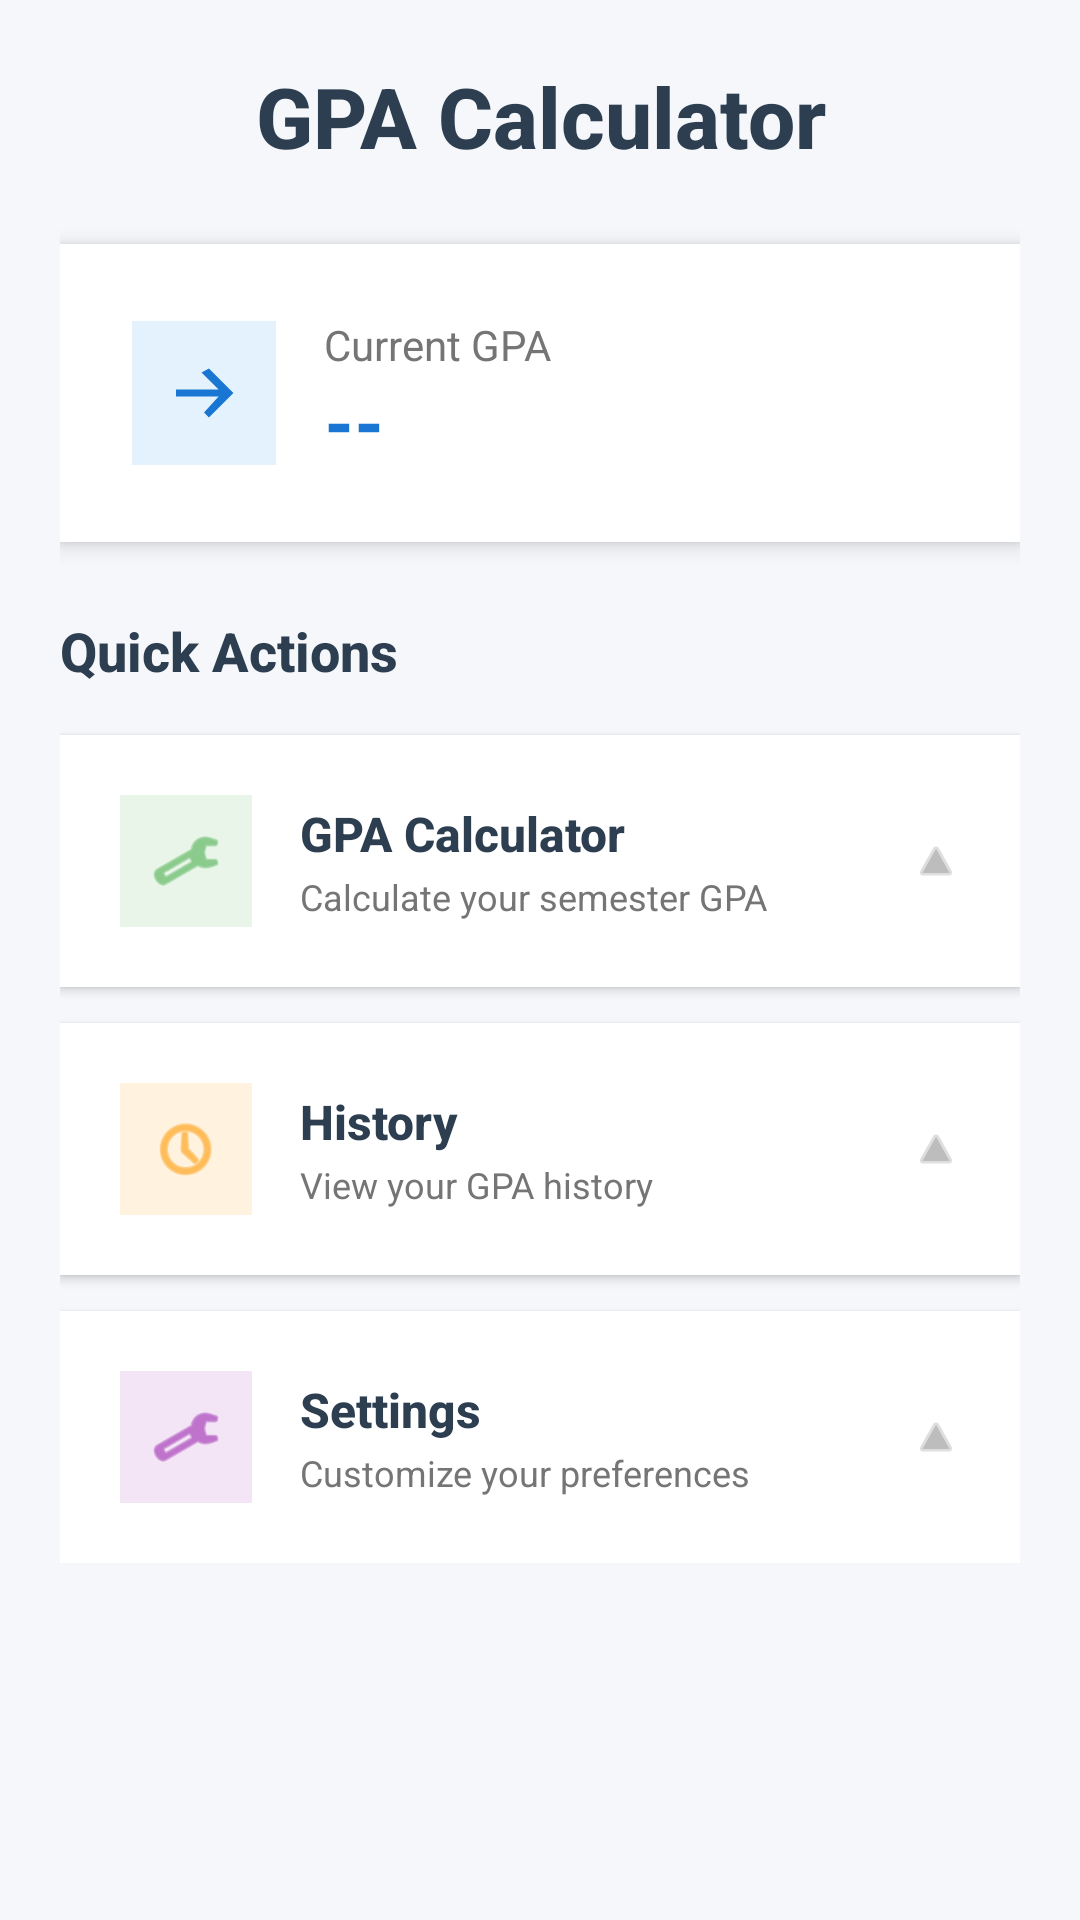

Where to tap for icons on this 1080×1920 app screen, as (x,y):
manage: (186,861)
